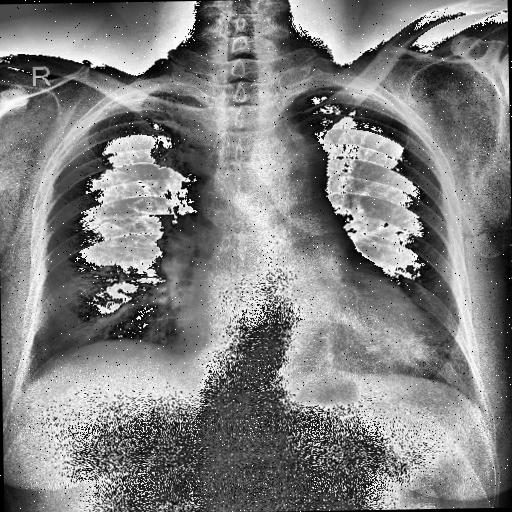0- Aortic enlargement: (249, 131, 332, 221), (255, 138, 328, 212), (260, 133, 328, 180)
3- Cardiomegaly: (180, 278, 444, 382), (181, 284, 444, 388), (186, 290, 441, 384)
